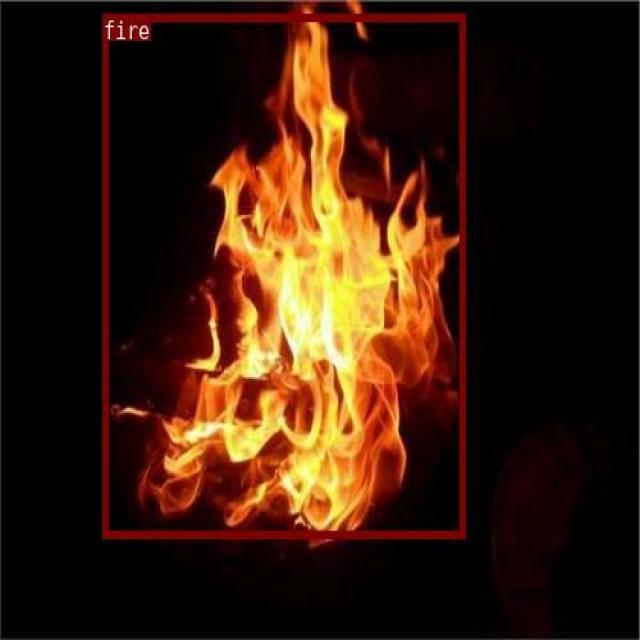fire: (101, 14, 464, 538)
